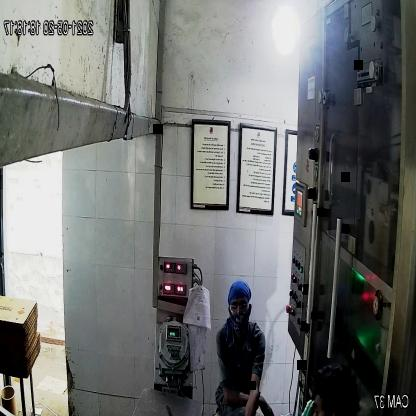goggles: (228, 297, 253, 317)
